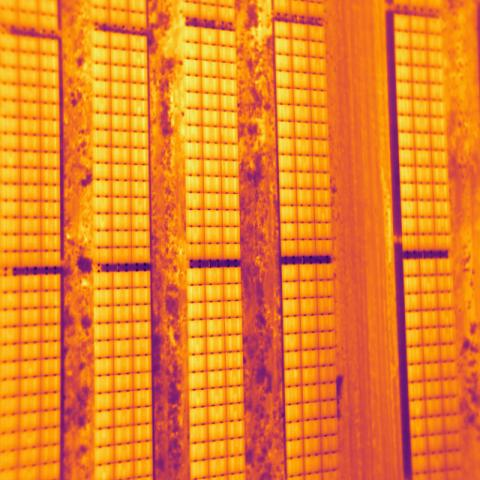fault: (93, 212, 113, 231)
